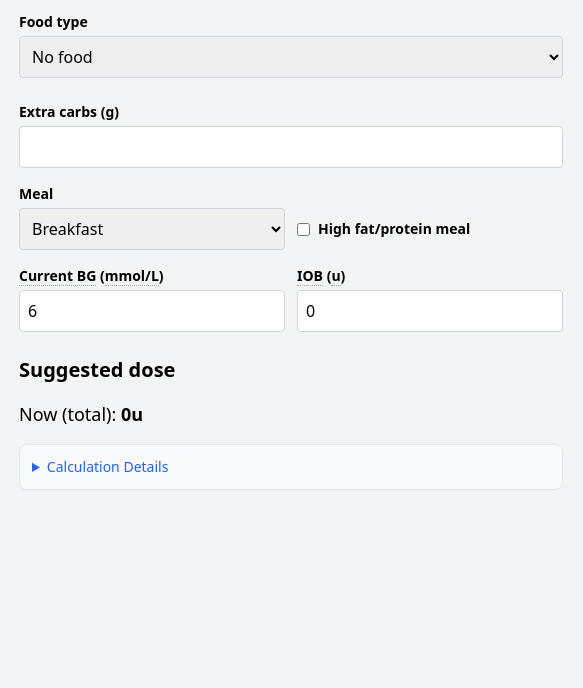
Test: App Component › displays carb calculation when food and portion selected
// First select a food to make portion input appear
Select "Pasta (uncooked)" in the dropdown labelled "Food type" at (291, 57), box [19,36,563,78]
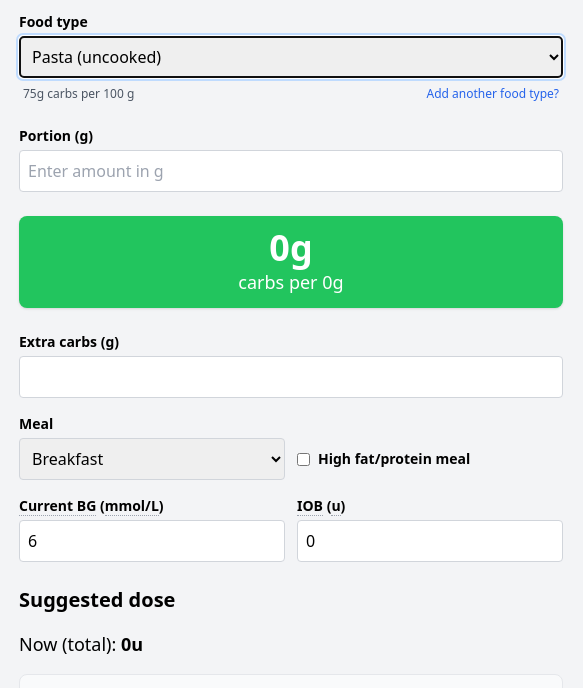
// Now the portion input should be available
Type "100" into the number field labelled "Portion (g)" at (291, 171), box [19,150,563,192]
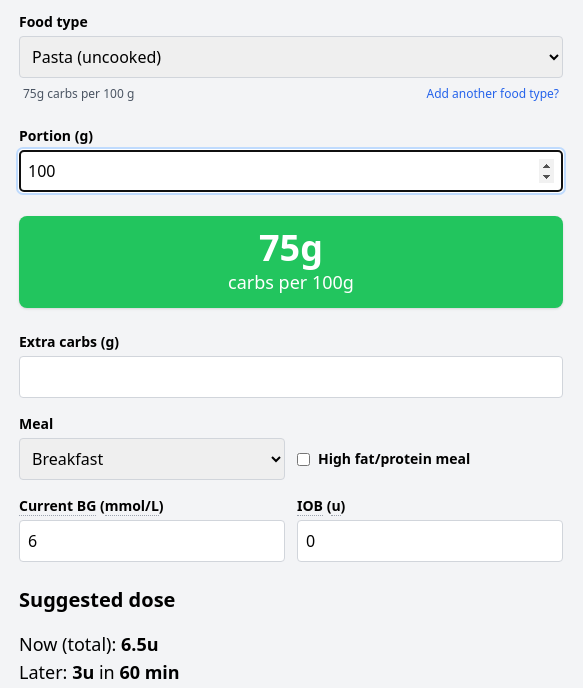
Expected: the text "carbs per 100g" is shown, [228,270,354,294]
